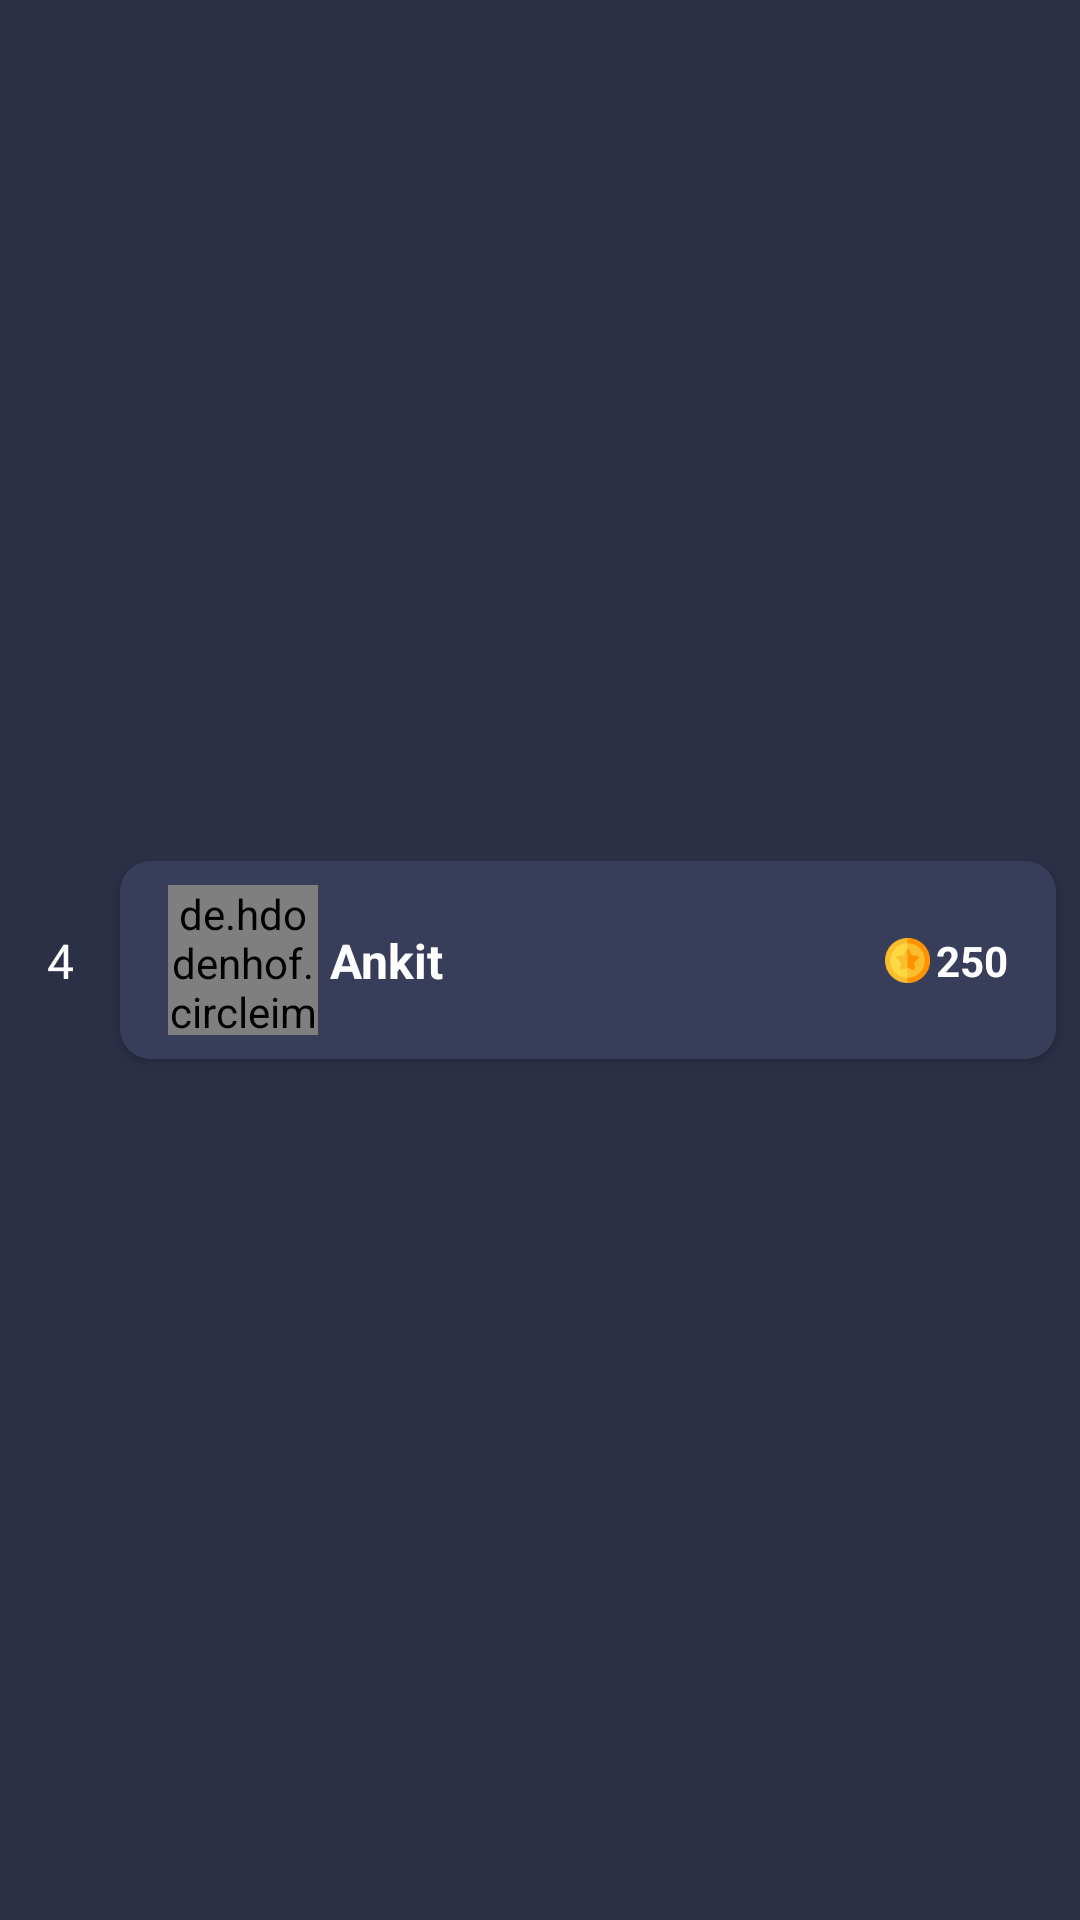

Point at icon controls on the screen. Image size 1080px×1920px, points as (x,y).
coin: (907,960)
